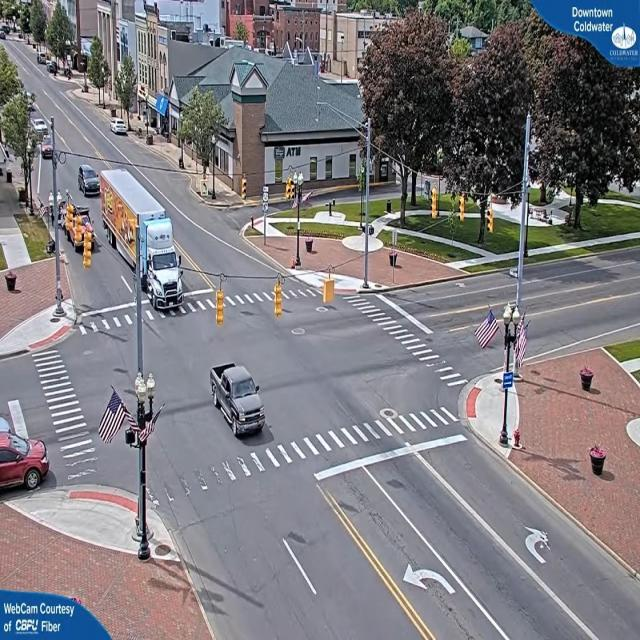car: (210, 362, 267, 439), (0, 431, 50, 496), (78, 166, 102, 194), (112, 120, 130, 136)
truck: (139, 208, 184, 313)
